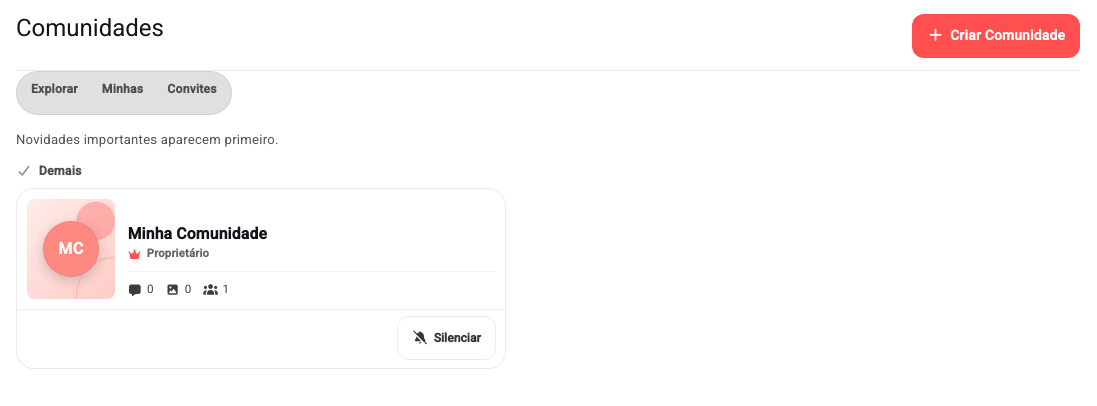
Test case: CommunityDiscoveryPageComponent / Minhas comunidades › integra mute ao card visual sem aninhar botão no link navegável
What coordinates should you click on to do the following:
click the button with aria-label "Silenciar alertas push de Minha Comunidade"
I would click on:
 (447, 338)
Its box is [398,316,496,360].
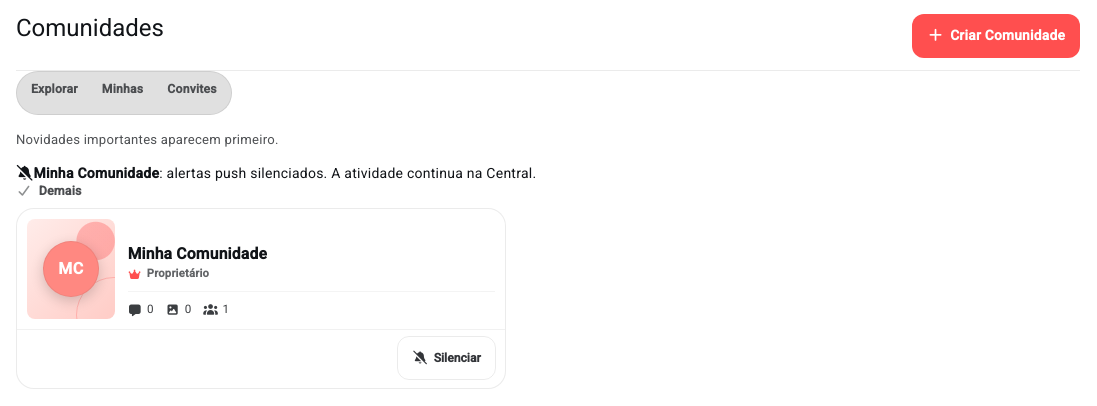
Expected: the text "alertas push silenciados. A atividade continua na Central." is shown, [166,165,536,181]
